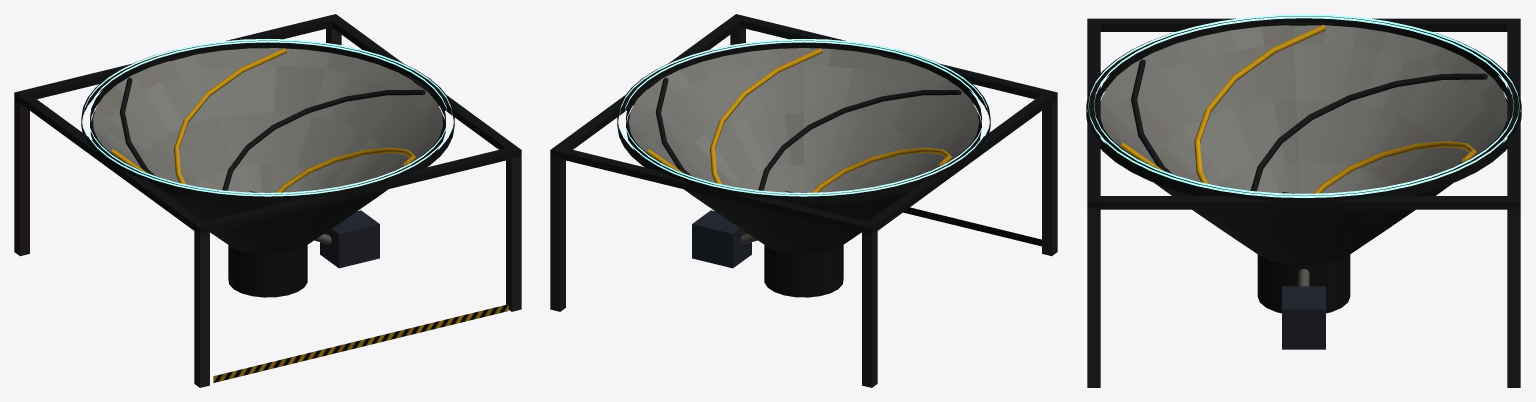
File: concept_vortex_funnel.glb
3 renders of one model, left to right at view 1: azimuth 30°, elevation 25°; view 2: azimuth 150°, elevation 25°; view 3: azimuth 270°, elevation 25°, orthographic. The views are drawn at different scales.
Parts seen in each view (by area): view 1: Bowl, Frame; view 2: Bowl, Frame; view 3: Bowl, Frame.
Part boxes in pixels (<box>): Bowl: <box>90,48,445,254</box>; Frame: <box>14,14,521,387</box>; Bowl: <box>626,48,981,254</box>; Frame: <box>550,14,1057,387</box>; Bowl: <box>1100,24,1507,265</box>; Frame: <box>1086,14,1521,387</box>.
Bounding box in the file's own units: 3.94 × 1.91 × 3.94.
